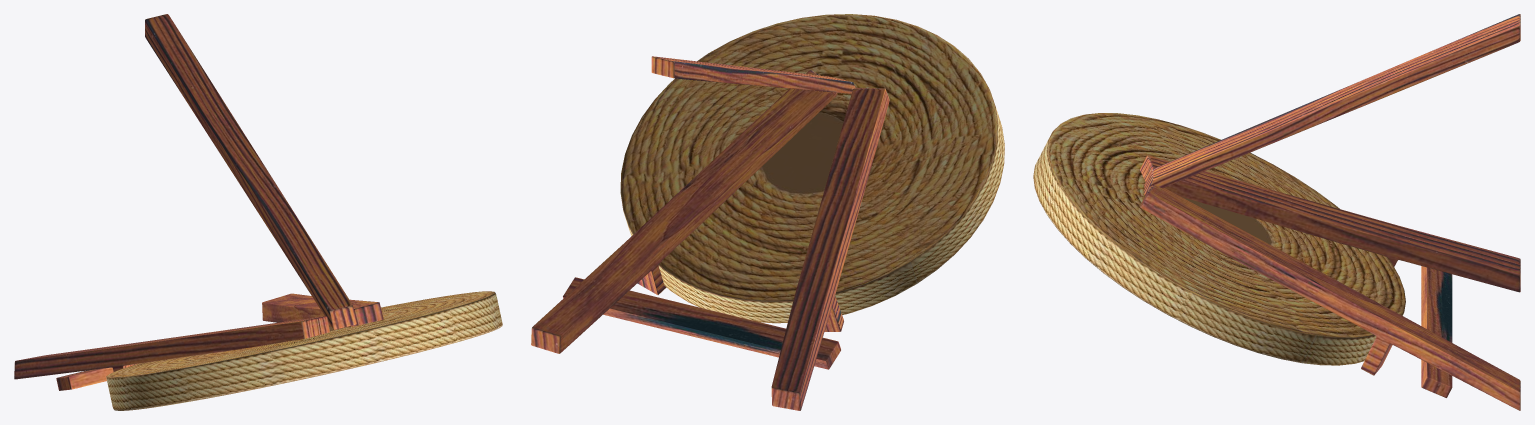
Rendered from Target.obj.
3 views of the same model, side by side, from view 1: azimuth 30°, elevation 25°; view 2: azimuth 150°, elevation 25°; view 3: azimuth 270°, elevation 25° (orthographic). The views are drawn at different scales.
Parts seen in each view (by area): view 1: 10480_archery_target; view 2: 10480_archery_target; view 3: 10480_archery_target.
Part boxes in pixels (<box>): 10480_archery_target: <box>14,14,502,410</box>; 10480_archery_target: <box>531,14,1004,410</box>; 10480_archery_target: <box>1033,14,1520,410</box>.
Bounding box in the file's own units: 76.65 × 69.91 × 94.23.
Materials: 1 (1 with a texture image).
